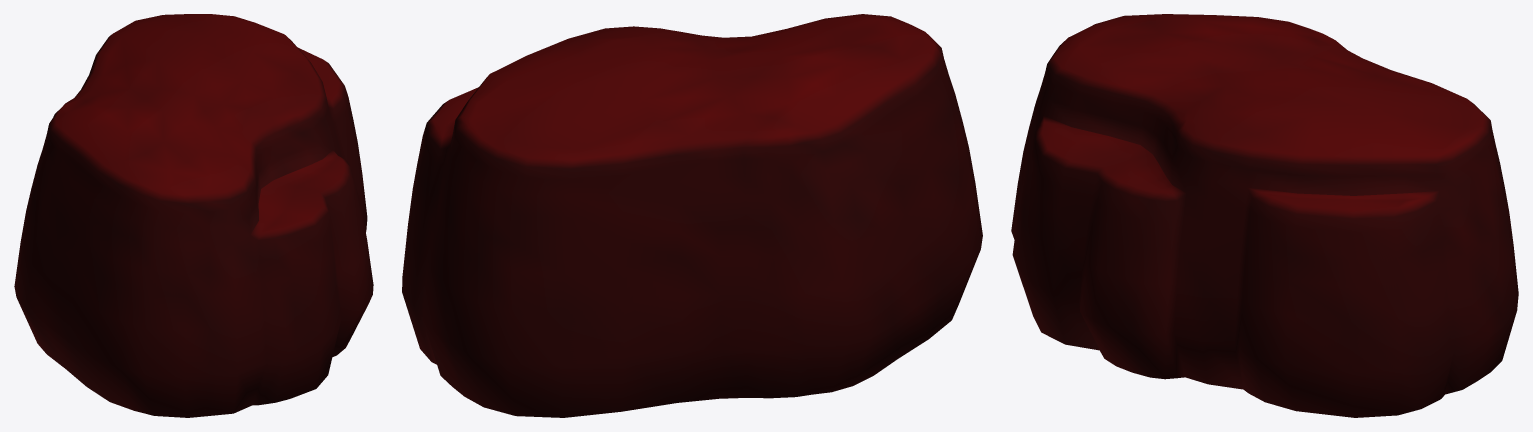
The model's file is geology-landforms-greenhilllarge_v3.fbx.
The picture shows the model from 3 angles, left to right: view 1: azimuth 30°, elevation 25°; view 2: azimuth 150°, elevation 25°; view 3: azimuth 270°, elevation 25°; orthographic projection. The views are drawn at different scales.
Parts seen in each view (by area): view 1: GreenHillLarge_v3; view 2: GreenHillLarge_v3; view 3: GreenHillLarge_v3.
Boxes of the visible parts, <box> form: GreenHillLarge_v3: <box>14,14,373,417</box>; GreenHillLarge_v3: <box>402,14,982,417</box>; GreenHillLarge_v3: <box>1011,14,1518,417</box>.
Bounding box in the file's own units: 38.1 × 23.5 × 42.85.
